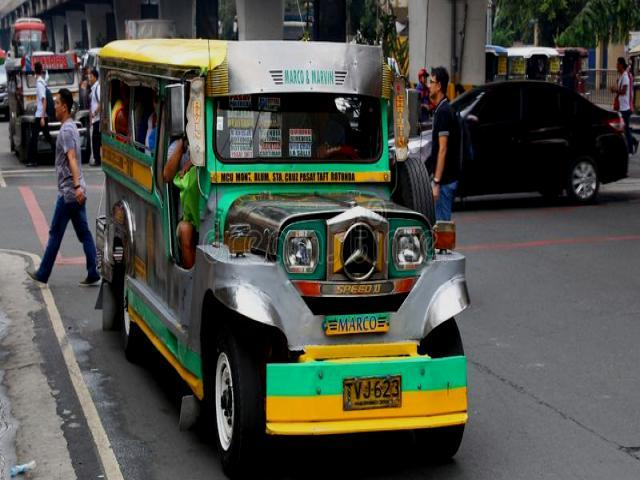jeepney: (88, 29, 477, 478), (4, 53, 93, 175)
